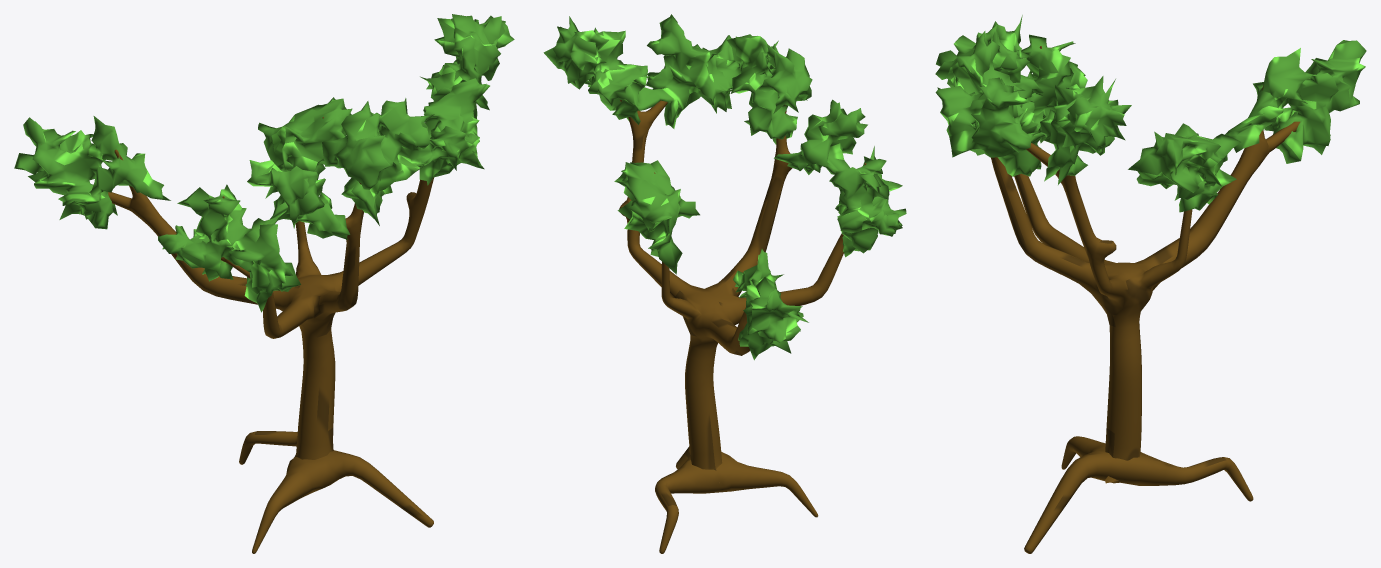
File: arbol2Dec.fbx
The picture shows the model from 3 angles, left to right: view 1: azimuth 30°, elevation 25°; view 2: azimuth 150°, elevation 25°; view 3: azimuth 270°, elevation 25°; orthographic projection. The views are drawn at different scales.
Visible parts, largest first — view 1: Vert.005; view 2: Vert.005; view 3: Vert.005.
Part boxes in pixels (x1,y1,x2,y2): Vert.005: (14,14,514,553); Vert.005: (543,14,906,553); Vert.005: (935,15,1366,553).
Size of the model in its own units: 1006 by 1176 by 905.
Materials: 2 (2 with a texture image).
